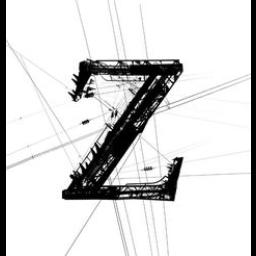z: (58, 48, 190, 206)
